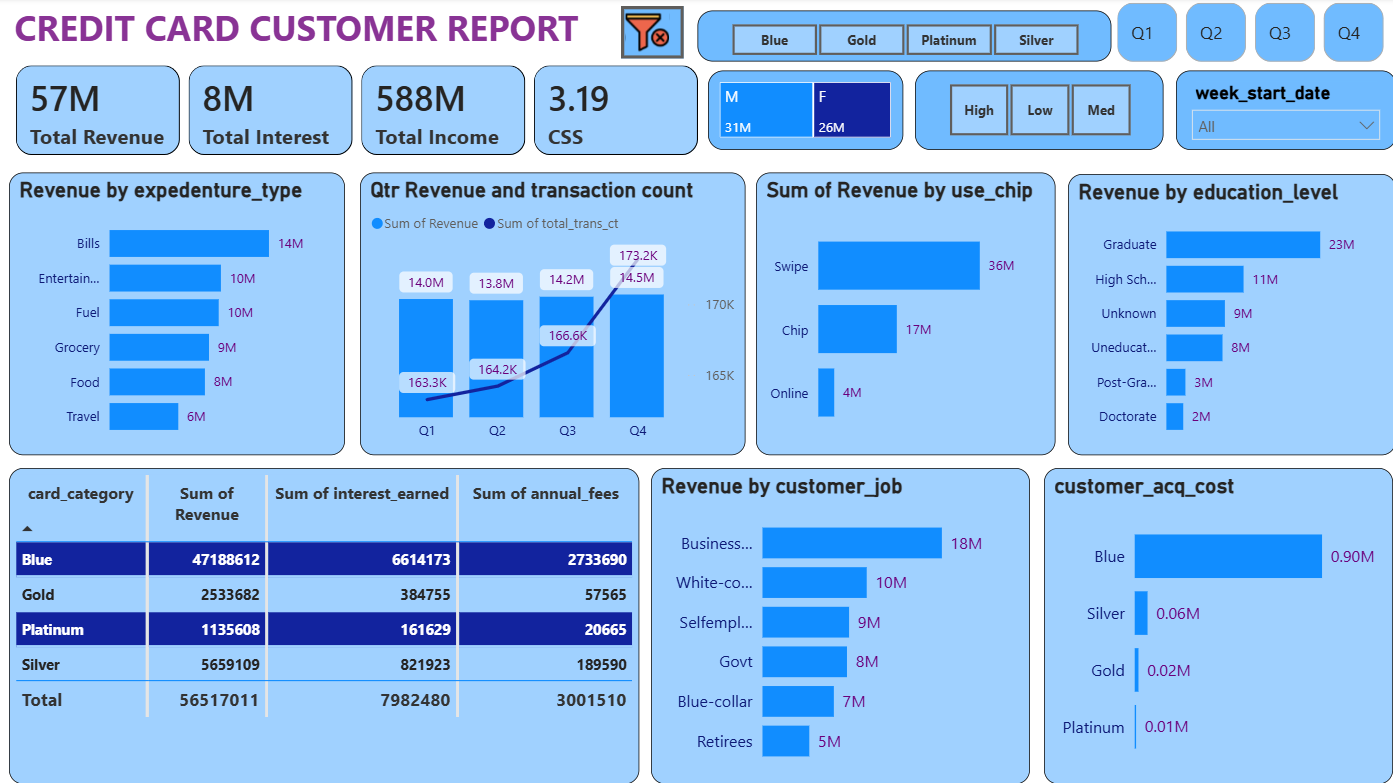

Layout of this report page (visuals, bound fields, positions):
{"tool":"powerbi","page":{"name":"Page 2","canvas":[1280,720],"ordinal":1},"visuals":[{"type":"textbox","box":[11,0,529.7,59],"z":0},{"type":"tableEx","fields":{"Values":["public cc_detail.card_category","Sum(public cc_detail.Revenue)","Sum(public cc_detail.interest_earned)","Sum(public cc_detail.annual_fees)"]},"box":[10.6,431.5,576.9,289.2],"z":1000},{"type":"lineStackedColumnComboChart","title":"Qtr Revenue and transaction count","fields":{"Category":["public cc_detail.qtr"],"Y":["Sum(public cc_detail.Revenue)"],"Y2":["Sum(public cc_detail.total_trans_ct)"]},"box":[331.6,160.5,352.8,258.9],"z":2000},{"type":"barChart","title":" Revenue by expedenture_type","fields":{"Y":["Sum(public cc_detail.Revenue)"],"Category":["public cc_detail.exp_type"]},"box":[10.6,160.5,307.4,258.9],"z":3000},{"type":"barChart","title":"Revenue by education_level","fields":{"Y":["Sum(public cc_detail.Revenue)"],"Category":["public cust_detail.education_level"]},"box":[979.7,162,299.8,257.4],"z":4000},{"type":"barChart","title":" Revenue by customer_job","fields":{"Y":["Sum(public cc_detail.Revenue)"],"Category":["public cust_detail.customer_job"]},"box":[598.1,431.5,346.8,289.2],"z":5000},{"type":"barChart","title":"customer_acq_cost ","fields":{"Y":["Sum(public cc_detail.customer_acq_cost)"],"Category":["public cc_detail.card_category"]},"box":[958.5,431.5,319.5,289.2],"z":6000},{"type":"barChart","fields":{"Y":["Sum(public cc_detail.Revenue)"],"Category":["public cc_detail.use_chip"]},"box":[695,160.5,274.1,258.9],"z":7000},{"type":"cardVisual","fields":{"Data":["Sum(public cc_detail.Revenue)","Sum(public cc_detail.interest_earned)","Sum(public cust_detail.income)","Avg(public cust_detail.cust_satisfaction_score)"]},"box":[0,45.4,661.7,116.6],"z":8000},{"type":"slicer","fields":{"Values":["public cc_detail.card_category"]},"box":[640.5,12.1,378.6,46.9],"z":9000},{"type":"advancedSlicerVisual","fields":{"Values":["public cc_detail.qtr"]},"box":[1019.6,0,258,64.5],"z":10000},{"type":"slicer","fields":{"Values":["public cust_detail.IncomeGroup"]},"box":[840.4,66.6,227.1,72.7],"z":11000},{"type":"slicer","fields":{"Values":["public cc_detail.week_start_date"]},"box":[1078.1,66.6,201.4,72.7],"z":12000},{"type":"treemap","fields":{"Group":["public cust_detail.gender"],"Values":["Sum(public cc_detail.Revenue)"]},"box":[651.1,66.6,178.7,72.7],"z":13000},{"type":"actionButton","box":[570.6,7.8,57.5,48.2],"z":14000}]}

Visuals, with their boxes in screenshot pixels (x1, y1, x2, y2), scaled from the page's 1280x720 canvas onto the 1393x783 screenshot:
textbox: [12,0,588,64]
tableEx - public cc_detail.card_category x Sum(public cc_detail.Revenue): [12,469,639,782]
"Qtr Revenue and transaction count" lineStackedColumnComboChart: [361,175,745,456]
" Revenue by expedenture_type" barChart: [12,175,346,456]
"Revenue by education_level" barChart: [1066,176,1392,456]
" Revenue by customer_job" barChart: [651,469,1028,782]
"customer_acq_cost " barChart: [1043,469,1391,782]
barChart - Sum(public cc_detail.Revenue) x public cc_detail.use_chip: [756,175,1055,456]
cardVisual - Sum(public cc_detail.Revenue) x Sum(public cc_detail.interest_earned): [0,49,720,176]
slicer - public cc_detail.card_category: [697,13,1109,64]
advancedSlicerVisual - public cc_detail.qtr: [1110,0,1390,70]
slicer - public cust_detail.IncomeGroup: [915,72,1162,151]
slicer - public cc_detail.week_start_date: [1173,72,1392,151]
treemap - public cust_detail.gender x Sum(public cc_detail.Revenue): [709,72,903,151]
actionButton: [621,8,684,61]
